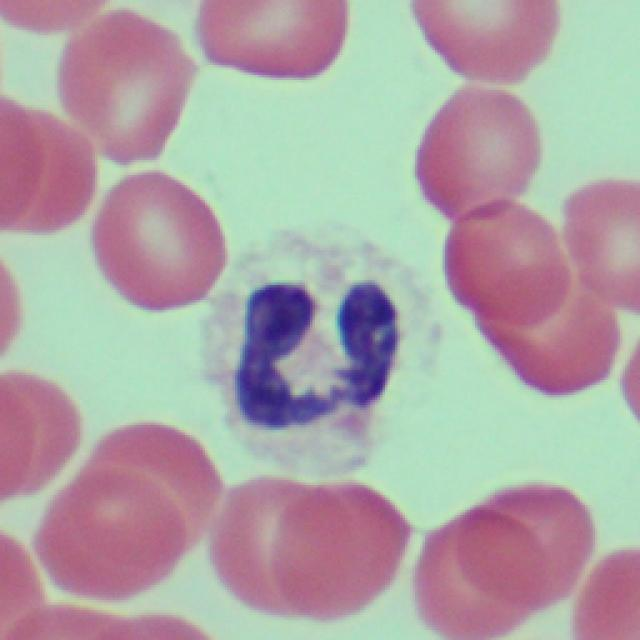RBC: (22, 412, 220, 627), (201, 469, 414, 618), (408, 469, 588, 639), (446, 178, 583, 394), (59, 5, 188, 162), (87, 167, 225, 307), (412, 82, 538, 220), (0, 85, 90, 243), (190, 0, 355, 78), (0, 354, 75, 521), (408, 0, 560, 80), (556, 164, 640, 308), (568, 545, 640, 638)
WBC: (242, 276, 402, 427)
